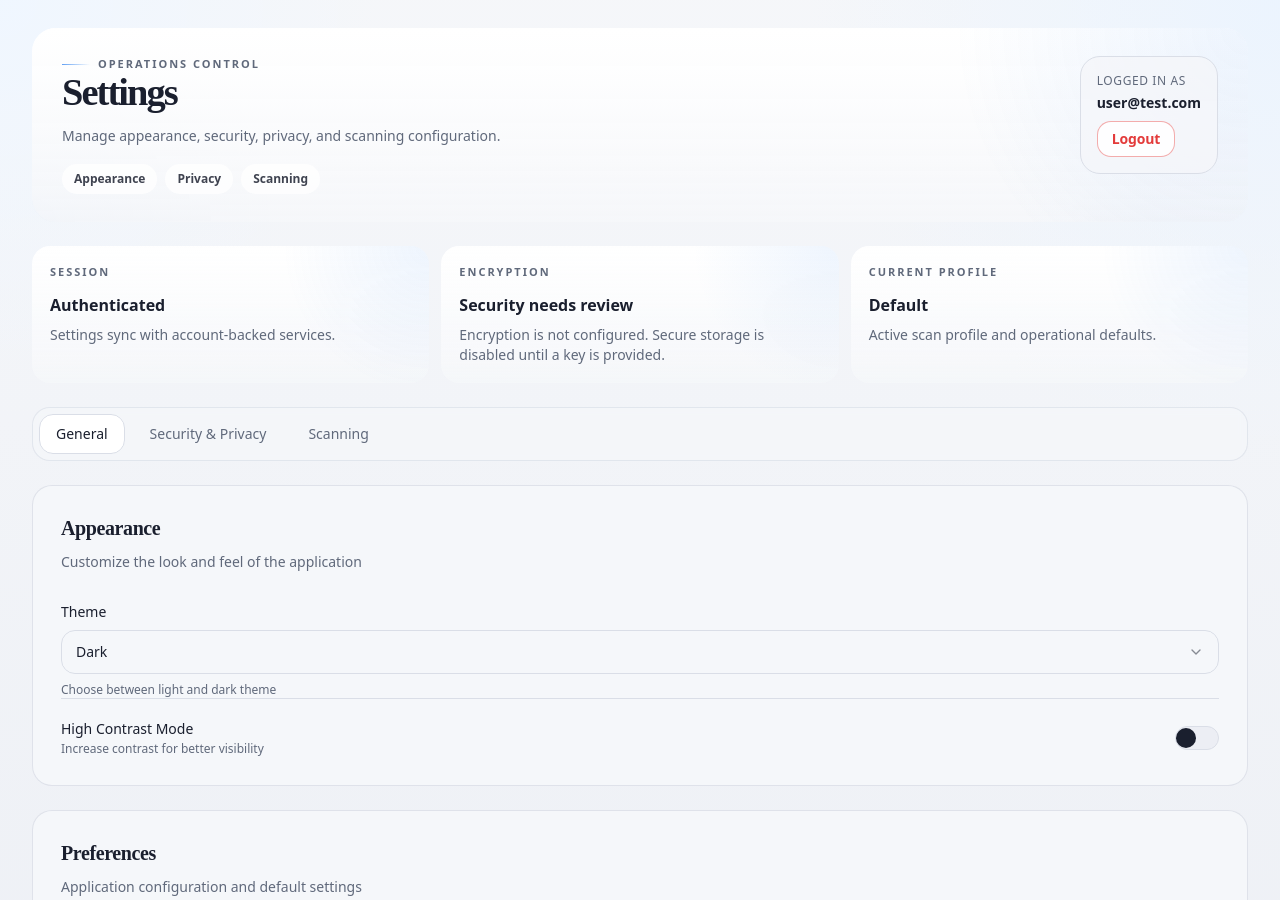
Test: Settings — External Services (secrets) › shows 'Configured' when secret exists
Click the button "Security & Privacy" at (208, 434), box [133, 414, 283, 454]
(page scrolled)
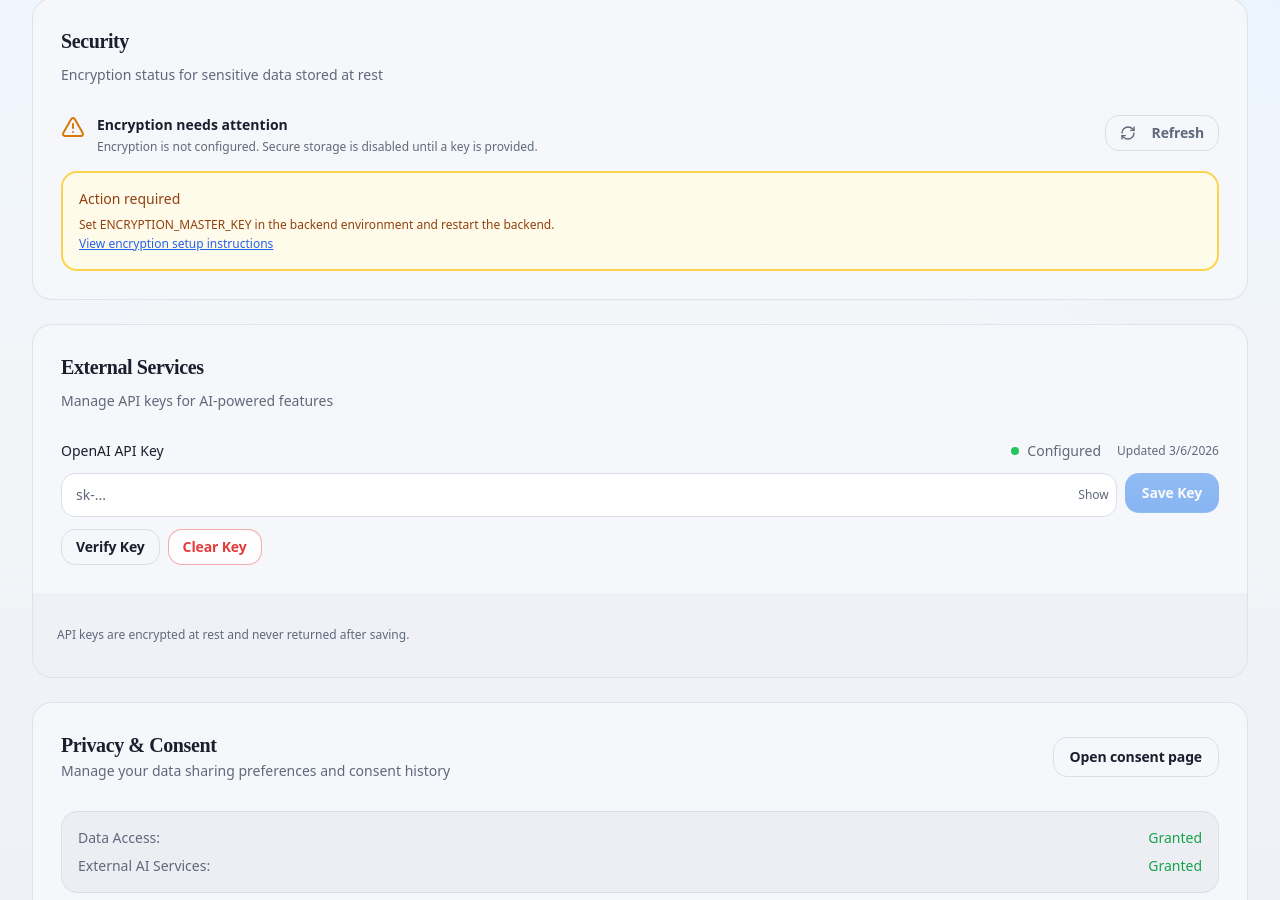
Check: the text "Configured" is shown, box [1027, 441, 1101, 461]
